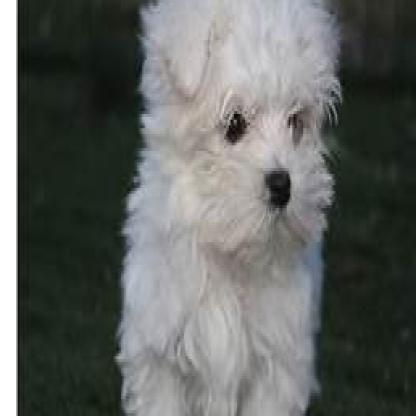dog: (113, 0, 345, 413)
